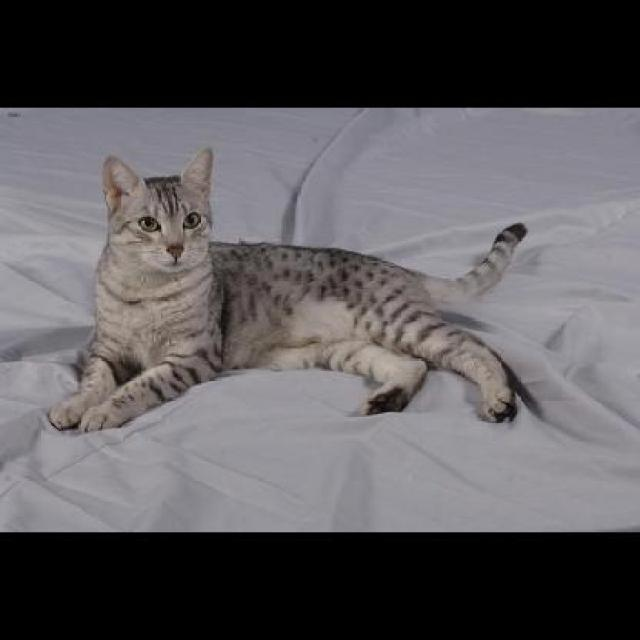unauthorized: (46, 146, 540, 432)
